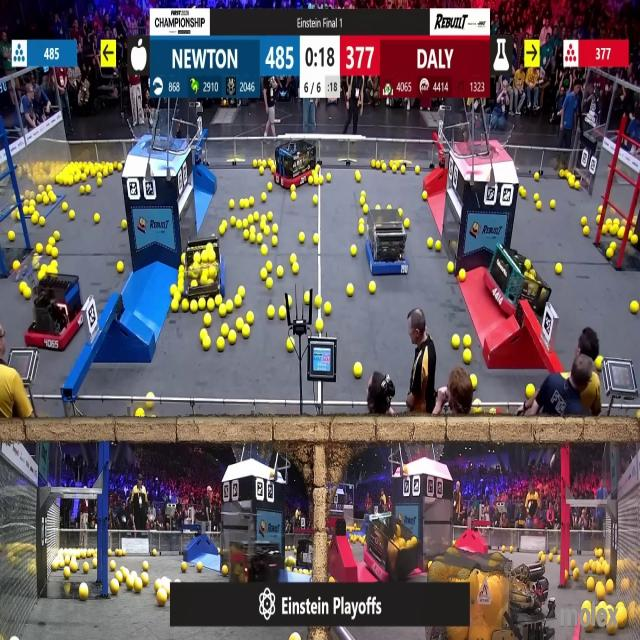ball_ground: (617, 610, 628, 630), (78, 585, 88, 601), (158, 591, 168, 607), (596, 586, 606, 600), (606, 623, 616, 636), (354, 361, 362, 377), (110, 581, 119, 595), (463, 349, 471, 364), (217, 338, 225, 352), (526, 384, 534, 398), (452, 336, 460, 349), (605, 582, 613, 595), (588, 579, 596, 592), (243, 324, 250, 338), (278, 308, 286, 320), (172, 301, 180, 313), (630, 302, 638, 314), (203, 339, 211, 351), (246, 312, 254, 324), (230, 332, 238, 344), (220, 324, 228, 336), (189, 301, 197, 313), (199, 300, 207, 312), (141, 572, 149, 584), (134, 582, 142, 594), (596, 356, 603, 369), (205, 314, 212, 327), (181, 301, 189, 312), (631, 236, 639, 247), (70, 562, 78, 573), (463, 337, 470, 349), (556, 264, 563, 276), (269, 307, 276, 319), (324, 304, 331, 316), (286, 340, 293, 352), (316, 319, 323, 331), (470, 376, 476, 390), (237, 319, 244, 331), (207, 300, 214, 312), (183, 562, 190, 574), (603, 564, 610, 576), (291, 265, 298, 276), (116, 263, 123, 274), (24, 288, 31, 299), (255, 234, 262, 245), (171, 285, 178, 296), (619, 228, 626, 239), (266, 224, 273, 235), (459, 270, 465, 282), (348, 284, 354, 296), (434, 240, 440, 252), (368, 282, 374, 294), (314, 234, 320, 246), (219, 306, 225, 318), (136, 409, 144, 418), (18, 282, 24, 294), (568, 176, 574, 188), (128, 580, 134, 592), (36, 244, 43, 254), (236, 296, 243, 306), (606, 249, 613, 259), (215, 294, 222, 304), (259, 270, 266, 280), (227, 200, 234, 210), (201, 327, 208, 337), (12, 262, 19, 272), (571, 569, 578, 579), (116, 572, 123, 582), (298, 233, 304, 244), (305, 292, 311, 303), (316, 295, 322, 306), (64, 567, 70, 578), (198, 562, 204, 573), (263, 243, 269, 254), (226, 302, 232, 313), (83, 562, 89, 573), (584, 600, 591, 609), (243, 219, 250, 228), (448, 264, 454, 274), (290, 253, 296, 263), (219, 224, 225, 234), (221, 566, 227, 576), (94, 213, 100, 223), (239, 286, 245, 296), (142, 562, 148, 572), (272, 224, 278, 234), (268, 212, 274, 222), (244, 231, 250, 241), (70, 211, 76, 221), (550, 200, 556, 210), (237, 219, 243, 229), (268, 278, 274, 288), (253, 212, 259, 222), (268, 263, 274, 273), (32, 214, 38, 224), (422, 190, 428, 200), (313, 196, 319, 206), (403, 218, 409, 228), (278, 268, 284, 278), (49, 192, 55, 202), (248, 214, 254, 224), (50, 263, 56, 273), (250, 234, 256, 244), (43, 196, 49, 206), (33, 195, 39, 205), (74, 173, 80, 183), (610, 224, 616, 234), (146, 400, 153, 408), (109, 562, 116, 570), (599, 601, 606, 609), (287, 295, 292, 306), (8, 233, 14, 242), (308, 176, 314, 185), (358, 225, 364, 234), (51, 248, 57, 257), (55, 233, 61, 242), (584, 226, 590, 235), (62, 203, 68, 212), (601, 225, 607, 234), (260, 191, 266, 200), (579, 217, 585, 226), (24, 207, 30, 216), (588, 624, 594, 633), (564, 569, 570, 578), (68, 178, 74, 187), (290, 634, 299, 640), (154, 581, 160, 590), (428, 239, 433, 249), (273, 237, 278, 247), (351, 246, 356, 256), (356, 172, 361, 182), (232, 216, 237, 226), (180, 254, 185, 264), (585, 563, 590, 573), (362, 206, 368, 214), (290, 191, 296, 199), (609, 242, 615, 250), (93, 560, 99, 568), (534, 173, 540, 181), (48, 238, 54, 246), (250, 223, 256, 231), (87, 185, 93, 193), (252, 161, 258, 169), (148, 391, 154, 399), (452, 241, 458, 249), (259, 222, 265, 230), (318, 176, 324, 184), (556, 556, 562, 564), (40, 266, 46, 274), (304, 568, 310, 576), (382, 165, 388, 173), (38, 272, 44, 280), (91, 169, 97, 177), (249, 198, 254, 207), (536, 202, 541, 211), (39, 217, 44, 226), (240, 200, 245, 209), (79, 185, 84, 194), (537, 193, 542, 202), (596, 216, 602, 223), (290, 184, 296, 191), (314, 166, 320, 173), (598, 207, 604, 214), (269, 182, 274, 190), (416, 167, 421, 175), (121, 220, 126, 228), (98, 178, 103, 186), (400, 167, 405, 175), (326, 174, 331, 182), (398, 208, 403, 216), (179, 266, 184, 274), (574, 182, 579, 190), (80, 174, 85, 182), (360, 199, 365, 207), (370, 161, 375, 169), (120, 162, 125, 170), (547, 554, 552, 562), (269, 160, 274, 168), (358, 218, 364, 224), (329, 576, 334, 583), (259, 168, 264, 175), (570, 560, 575, 567), (392, 167, 397, 174), (46, 184, 51, 191), (584, 617, 589, 624), (522, 190, 526, 198), (560, 170, 564, 178), (104, 169, 108, 177), (360, 190, 365, 196), (568, 550, 572, 557), (108, 550, 112, 557), (152, 551, 156, 557), (377, 205, 381, 211), (388, 205, 392, 211)
goal: (461, 117, 516, 158), (130, 115, 188, 152)
robot_blue: (366, 210, 409, 276), (182, 238, 225, 302)
robot_red: (26, 274, 84, 351), (492, 250, 553, 319), (366, 520, 426, 585), (273, 140, 316, 190)
